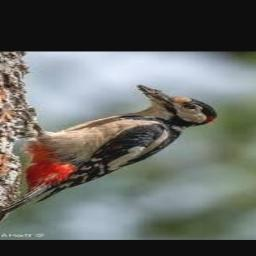Woodpecker: (0, 85, 217, 223)
